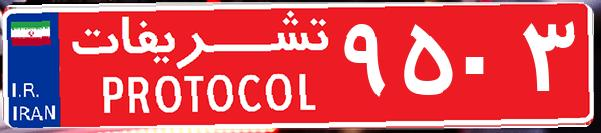0: (460, 20, 520, 115)
3: (520, 20, 580, 115)
5: (400, 20, 460, 115)
9: (340, 20, 400, 115)
تشریفات: (60, 8, 340, 125)
